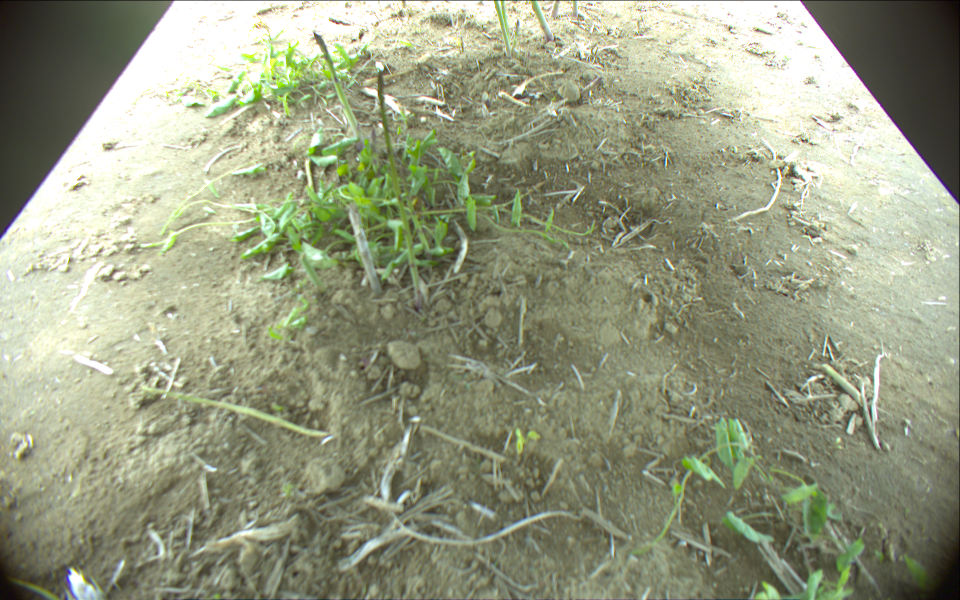aspa: (373, 66, 429, 307), (140, 383, 328, 439), (312, 31, 368, 142), (344, 205, 383, 292), (296, 250, 328, 292), (491, 1, 512, 54), (528, 1, 555, 42), (552, 1, 560, 19), (571, 1, 580, 16)
